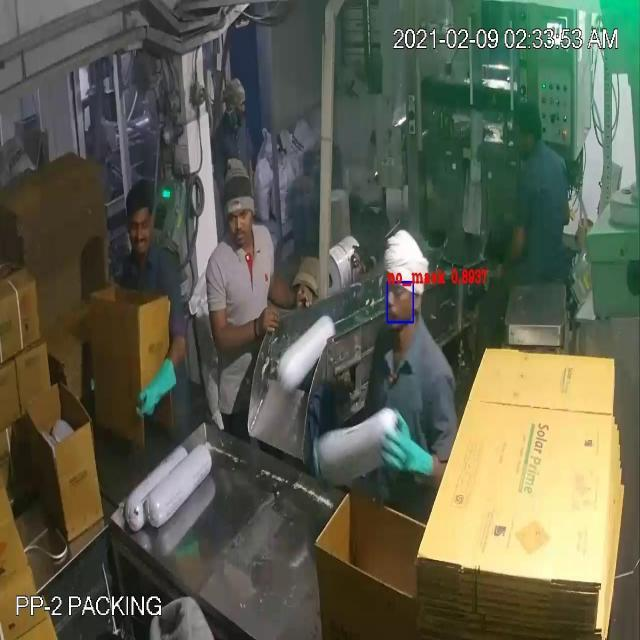Gloves: (36, 49, 510, 454)
